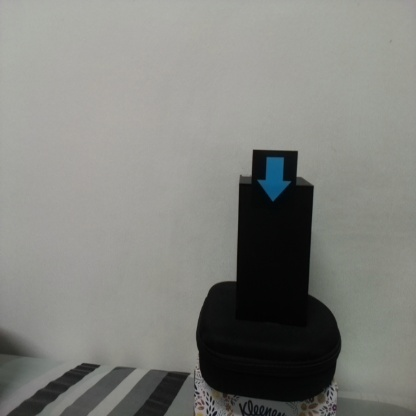id_2: (252, 150, 297, 212)
